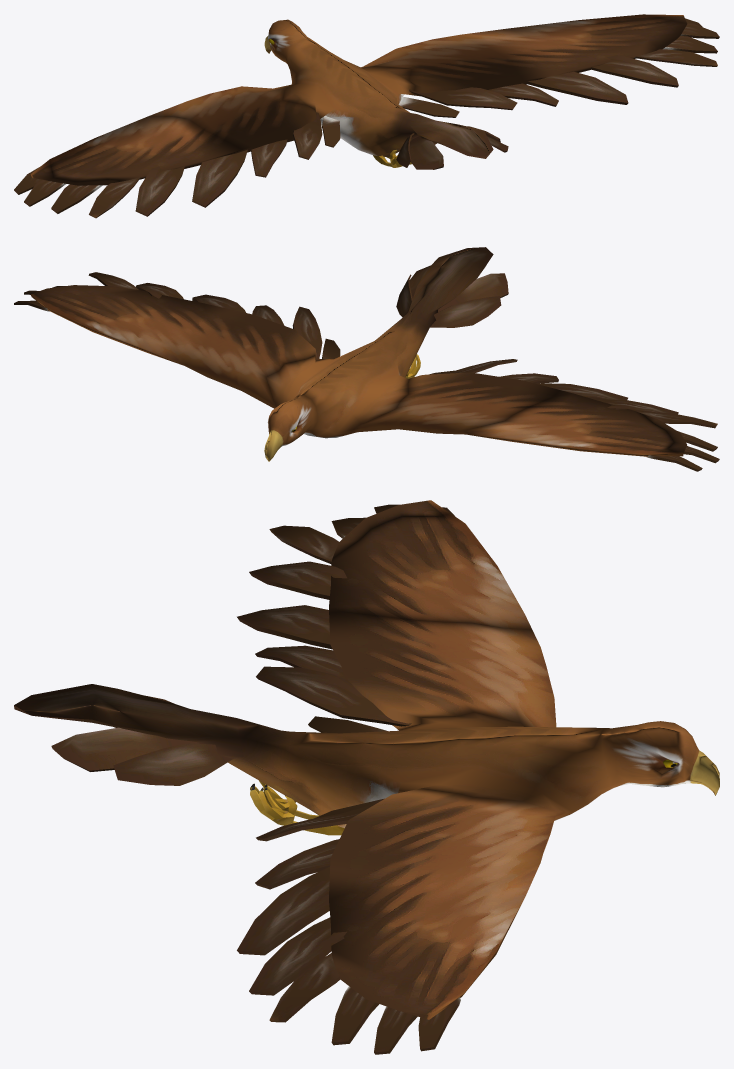
The model's file is hawk.glb.
3 views of the same model, one above another, from view 1: azimuth 30°, elevation 25°; view 2: azimuth 150°, elevation 25°; view 3: azimuth 270°, elevation 25° (orthographic). The views are drawn at different scales.
Visible parts, largest first — view 1: node_id29; view 2: node_id29; view 3: node_id29.
Part boxes in pixels (bbox=[...]): node_id29: bbox=[14, 14, 719, 218]; node_id29: bbox=[14, 247, 719, 471]; node_id29: bbox=[14, 500, 719, 1054].
Size of the model in its own units: 0.512 by 0.0637 by 0.2795.
Materials: 1 (1 with a texture image).
